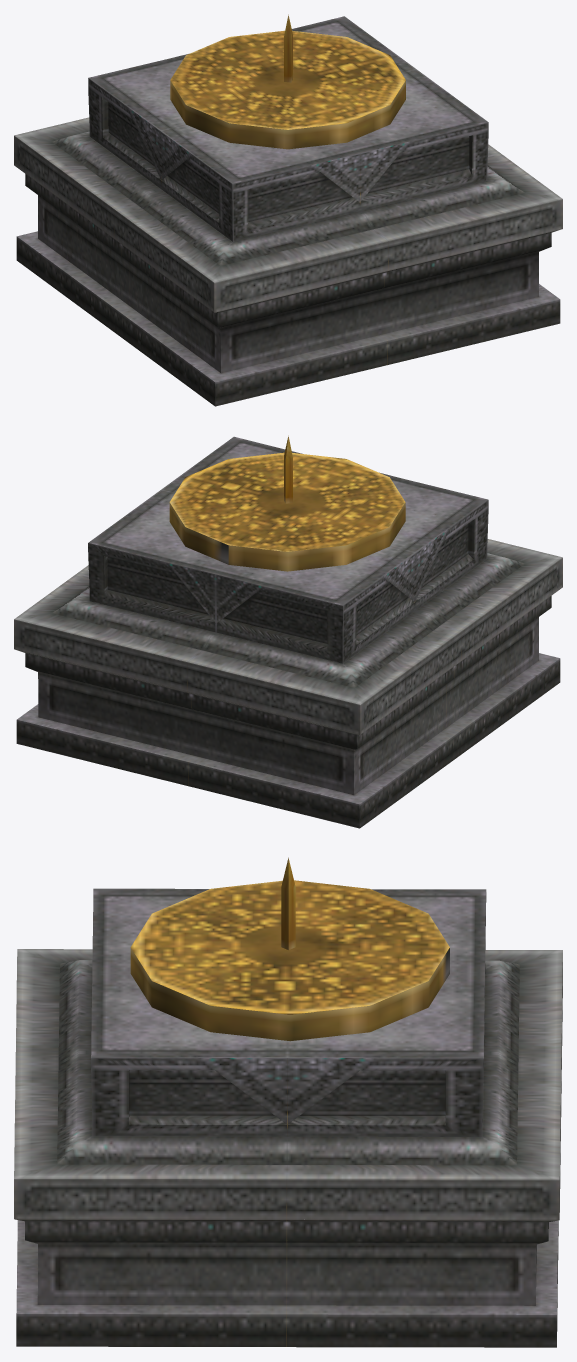
Rendered from lianqizong_shitai01_jz.FBX.
3 views of the same model, one above another, from view 1: azimuth 30°, elevation 25°; view 2: azimuth 150°, elevation 25°; view 3: azimuth 270°, elevation 25° (orthographic). The views are drawn at different scales.
Parts seen in each view (by area): view 1: lianqizong_shitai01_jz_01A; view 2: lianqizong_shitai01_jz_01A; view 3: lianqizong_shitai01_jz_01A.
Part boxes in pixels (box(x1,y1,x2,y2)): lianqizong_shitai01_jz_01A: box(14, 14, 562, 406); lianqizong_shitai01_jz_01A: box(14, 435, 562, 828); lianqizong_shitai01_jz_01A: box(14, 857, 562, 1347).
Size of the model in its own units: 86.15 by 65.64 by 86.8.
